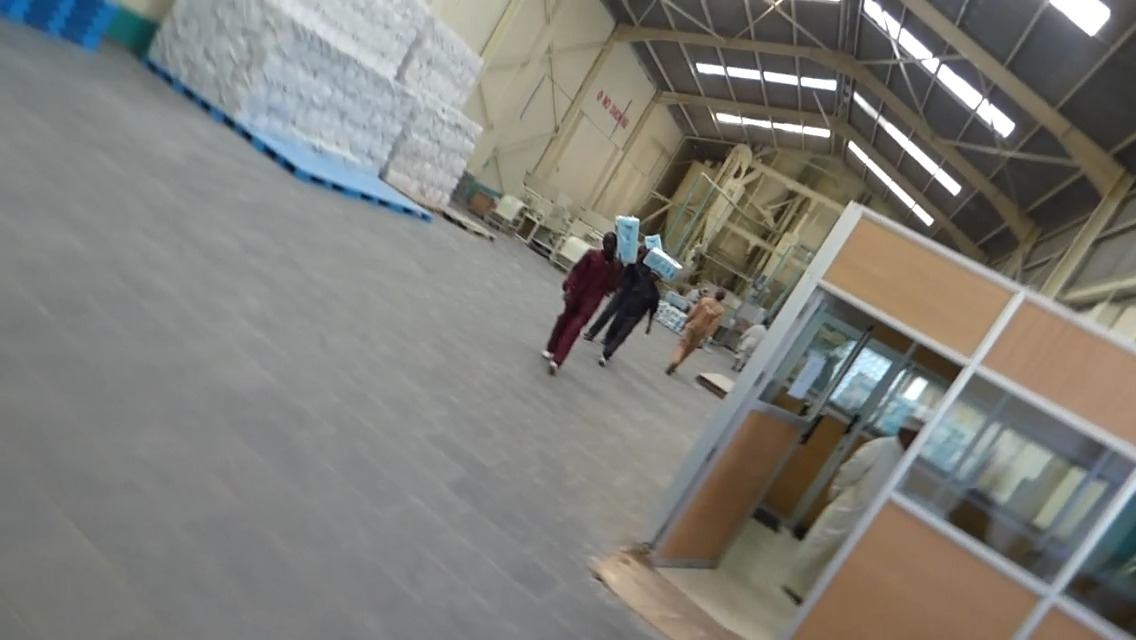maize_flour_green_label: (649, 246, 679, 284), (616, 214, 636, 264)
